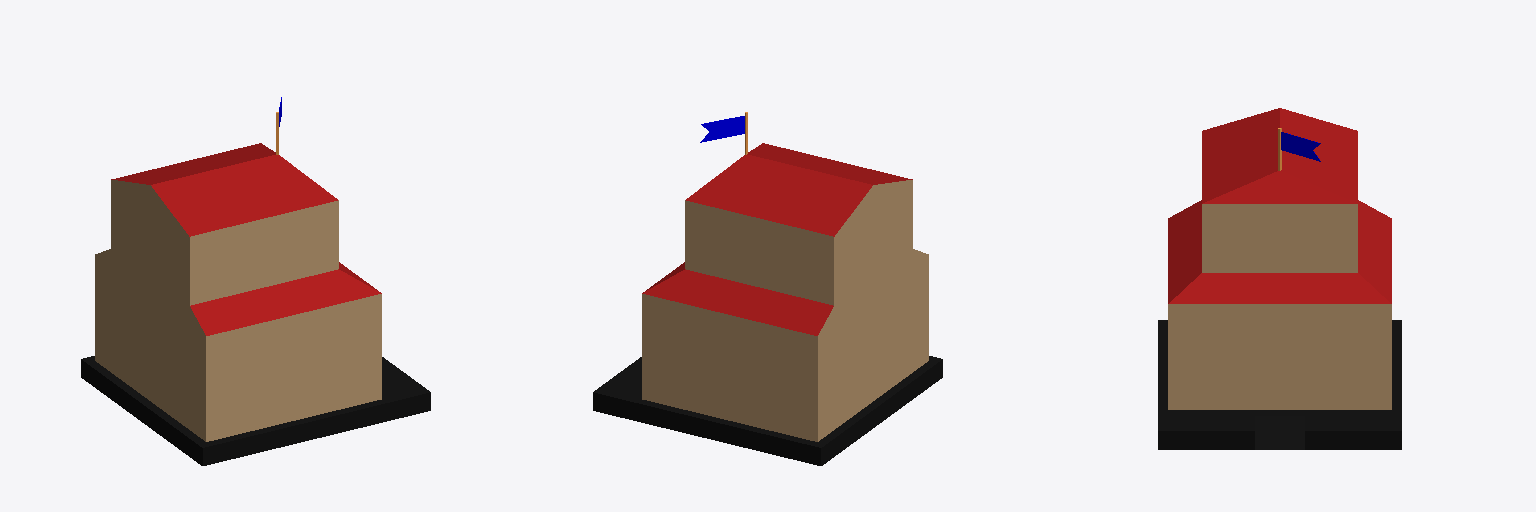
Rendered from BCityHall.obj.
3 renders of one model, left to right at view 1: azimuth 30°, elevation 25°; view 2: azimuth 150°, elevation 25°; view 3: azimuth 270°, elevation 25°, orthographic.
Parts seen in each view (by area): view 1: CityHall; view 2: CityHall; view 3: CityHall.
Boxes of the visible parts, box(x1,y1,x2,y2) form: CityHall: box(81, 97, 430, 465); CityHall: box(593, 112, 942, 465); CityHall: box(1158, 108, 1401, 449).
Size of the model in its own units: 5.2 by 6 by 4.8.